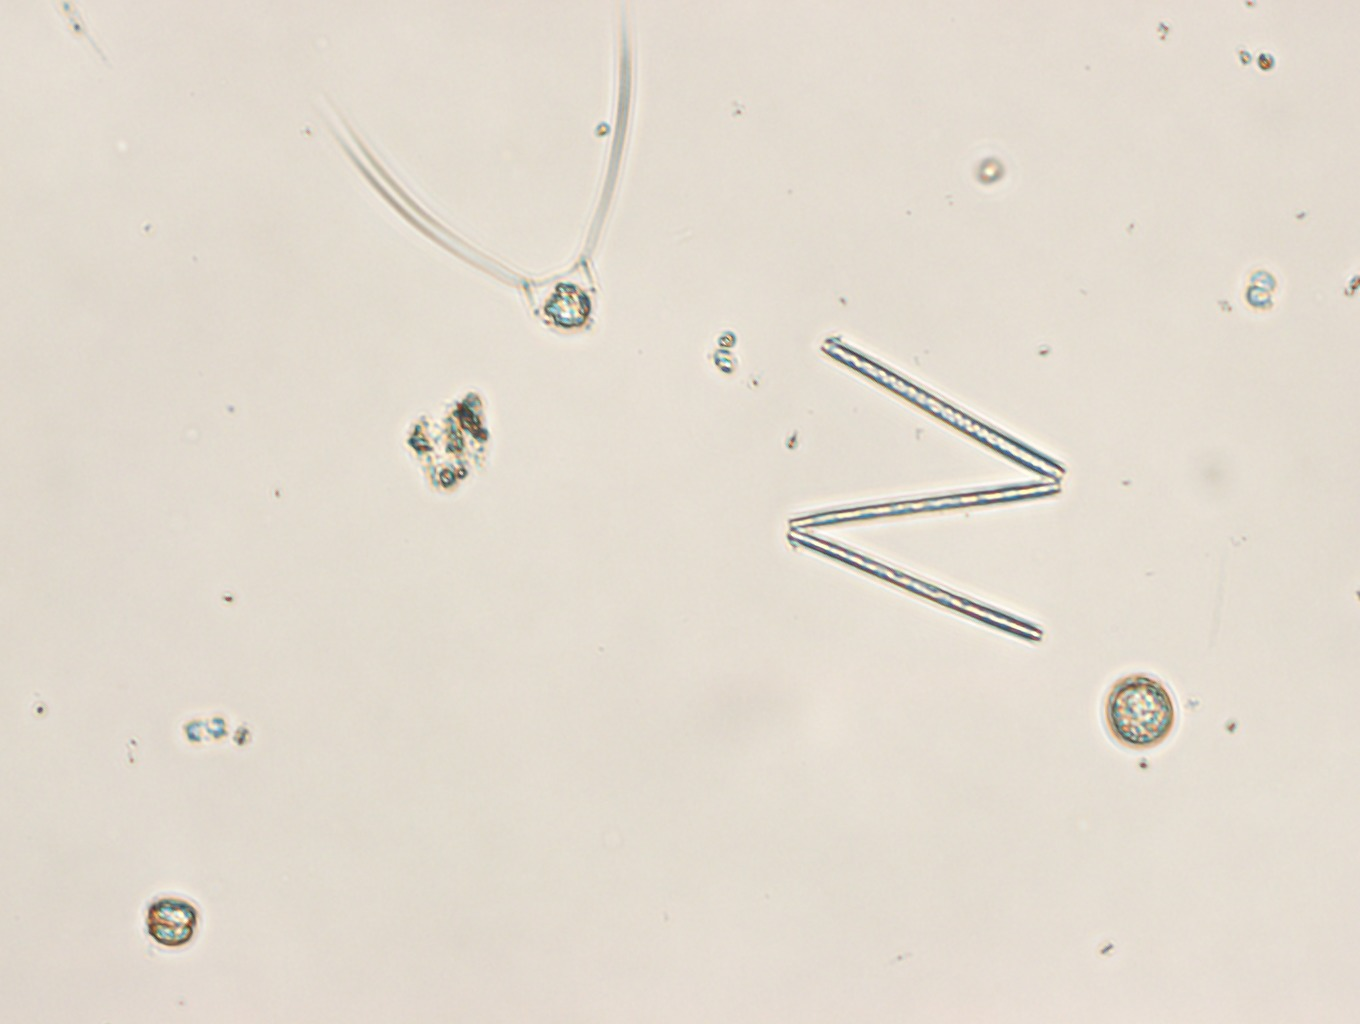chaetoceros: (307, 14, 635, 332)
thalassionema nitzschioides: (781, 337, 1064, 640)
